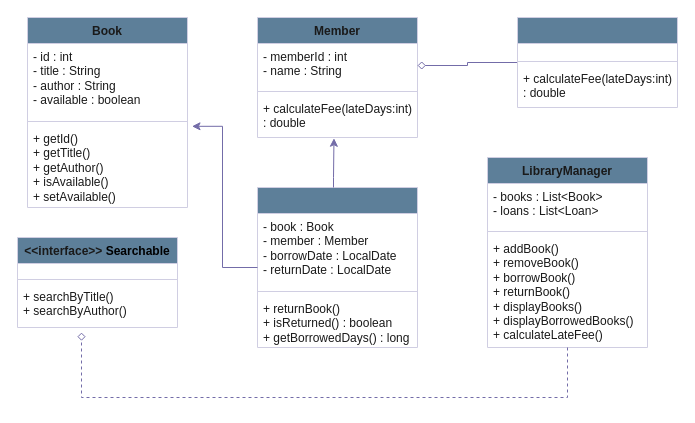
Image size: 695x423. Some labels were removed from this diagram. The box of each missing label's shape, as (x1, y1, x2, y2) in pixels:
Loan: (256, 186, 418, 348)
StudentMember: (516, 16, 678, 108)
